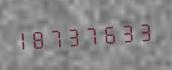eight: (34, 23, 50, 52)
one: (17, 24, 33, 53)
seven: (51, 22, 67, 51), (85, 20, 101, 48)
six: (102, 18, 118, 47)
three: (68, 21, 84, 50), (119, 17, 135, 46), (136, 16, 152, 45)
